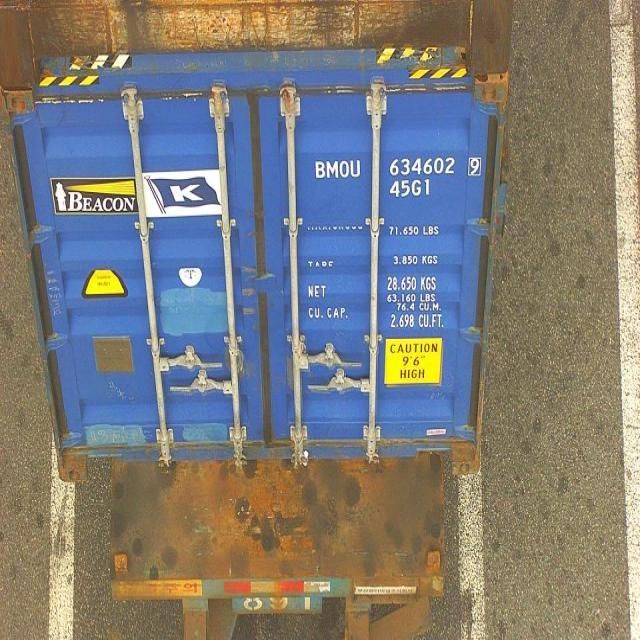ISO: (389, 179, 432, 197)
container_number: (317, 156, 479, 177)
